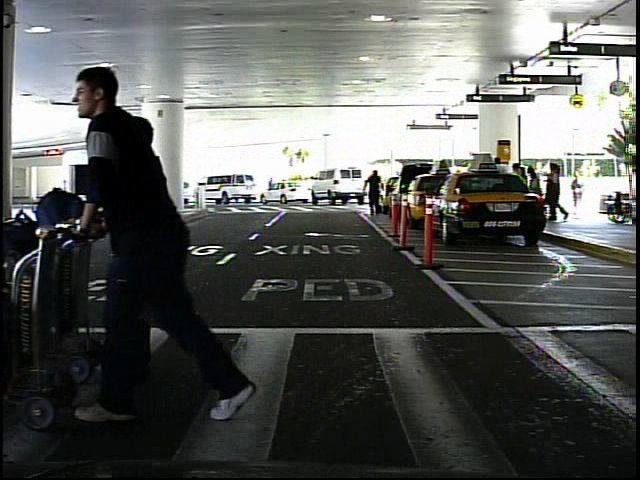person: (79, 48, 261, 427), (361, 167, 387, 223), (571, 171, 589, 217), (111, 171, 129, 210)
